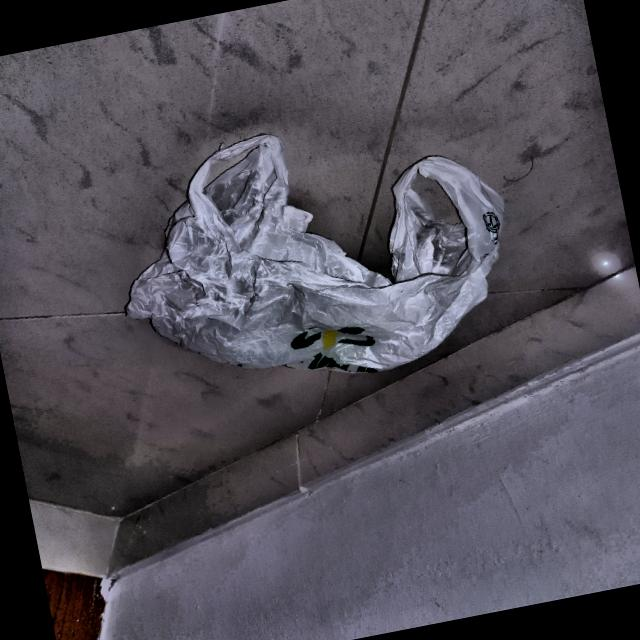plastic bag: (101, 96, 533, 422)
